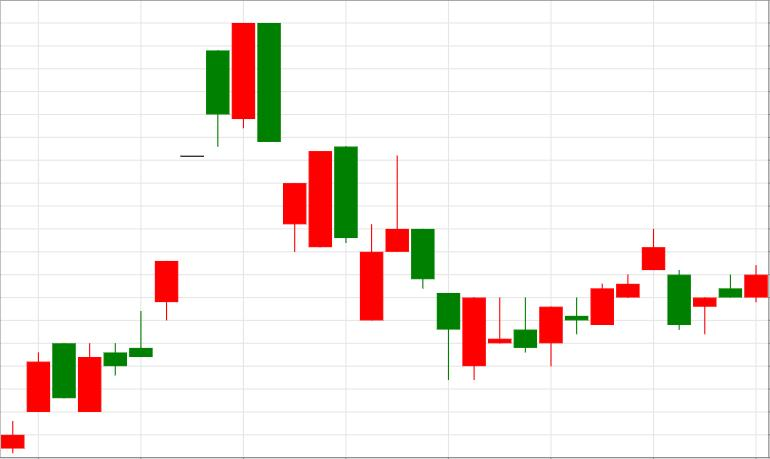bearish_engulfing_fall: (104, 23, 281, 375)
